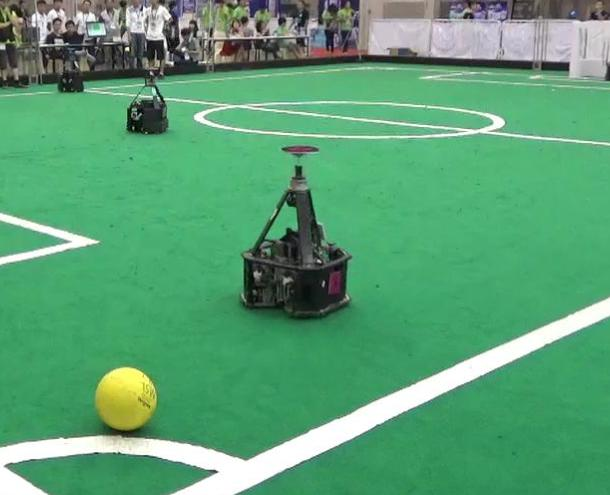robot: (220, 136, 370, 327), (117, 62, 179, 137)
